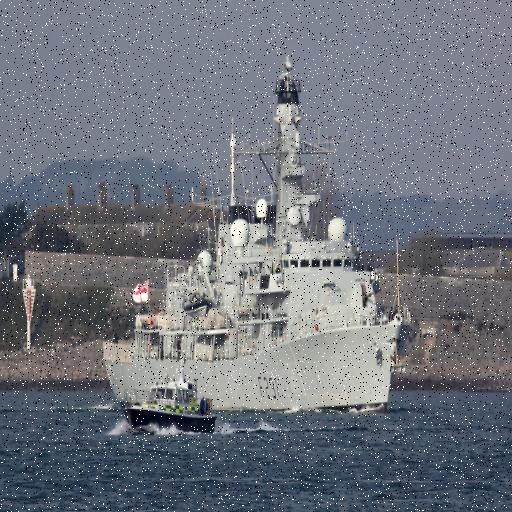Fragata: (99, 50, 415, 420)
